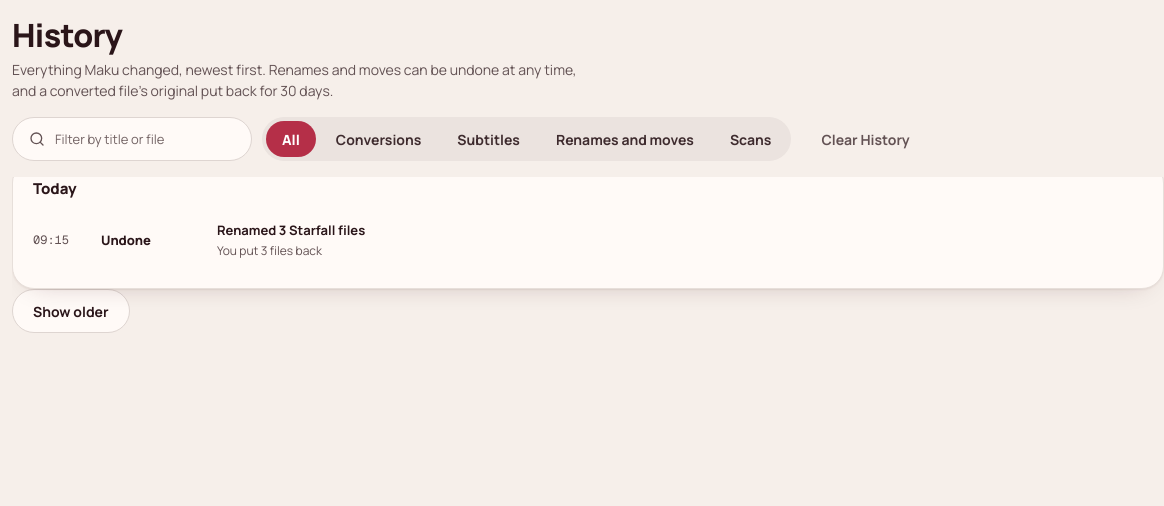
HistoryPage › shows older days on asking, an undo on the day it happened
Expected: the element "8 October" is not shown
Click the button "Show older": (71, 311) [12,289,130,333]
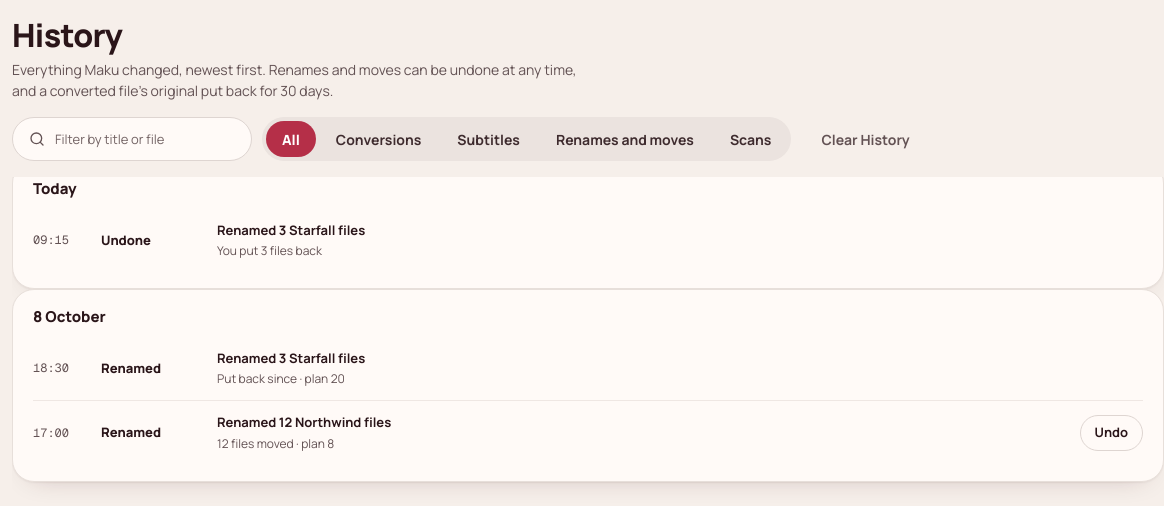
Expected: the button "Show older" is gone
